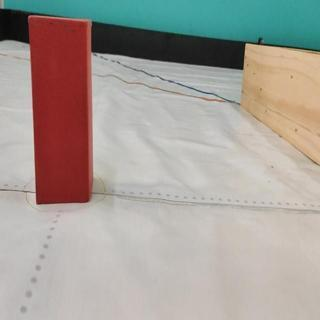redbox: (27, 14, 95, 205)
